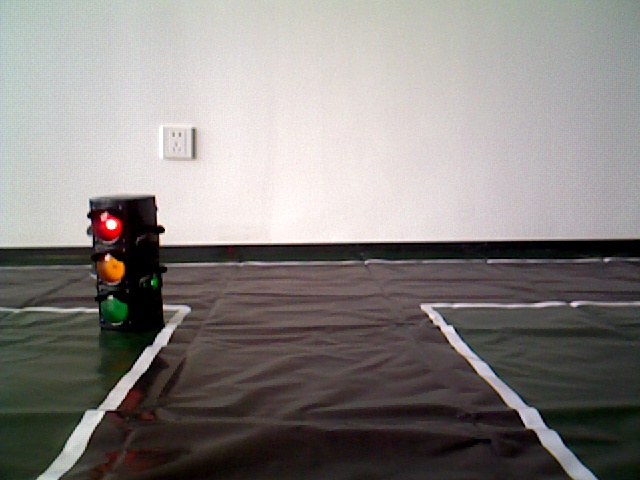red: (92, 198, 160, 336)
